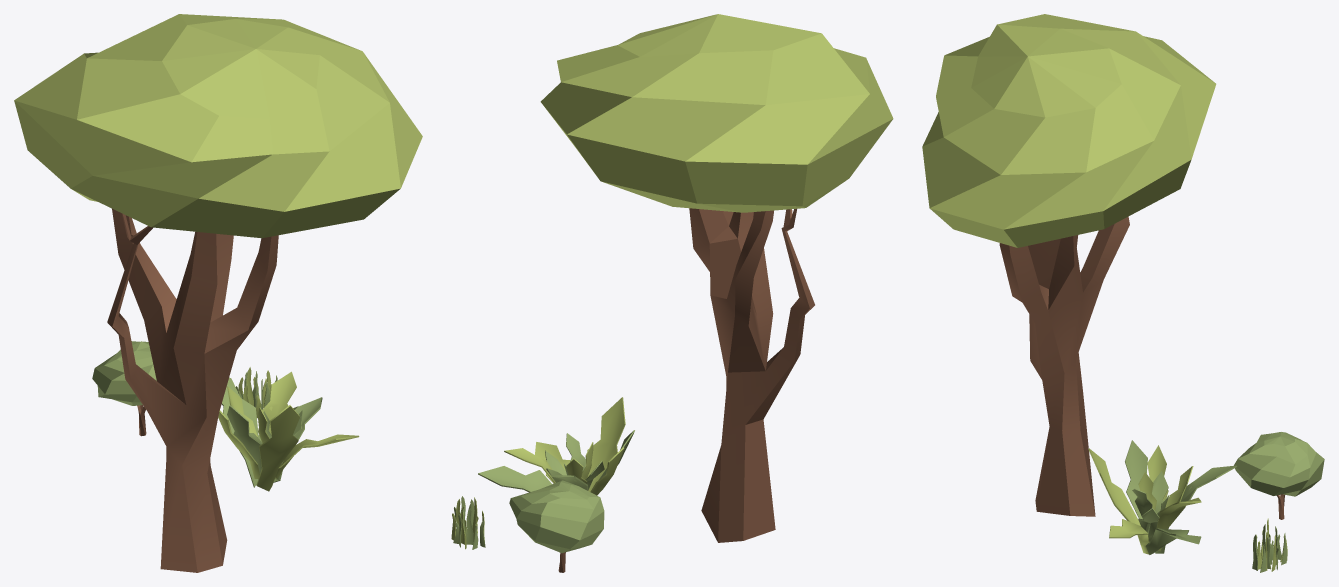
File: garden_vibes_2.fbx
The picture shows the model from 3 angles, left to right: view 1: azimuth 30°, elevation 25°; view 2: azimuth 150°, elevation 25°; view 3: azimuth 270°, elevation 25°; orthographic projection. The views are drawn at different scales.
Visible parts, largest first — view 1: pSphere5, pCube8, pSphere3, polySurface42; view 2: pSphere5, pCube8, pSphere3, polySurface42; view 3: pSphere5, pCube8, pSphere3, polySurface42.
Boxes of the visible parts, x1=… form: pSphere5: x1=14, y1=14, x2=422, y2=572; pCube8: x1=218, y1=371, x2=359, y2=491; pSphere3: x1=92, y1=341, x2=156, y2=436; polySurface42: x1=235, y1=367, x2=277, y2=418; pSphere5: x1=540, y1=14, x2=893, y2=542; pCube8: x1=478, y1=397, x2=634, y2=495; pSphere3: x1=509, y1=480, x2=604, y2=572; polySurface42: x1=451, y1=496, x2=485, y2=549; pSphere5: x1=922, y1=14, x2=1216, y2=516; pCube8: x1=1088, y1=440, x2=1237, y2=554; pSphere3: x1=1234, y1=432, x2=1324, y2=519; polySurface42: x1=1252, y1=518, x2=1287, y2=572.
Bounding box in the file's own units: 8.23 × 12.3 × 9.41.
